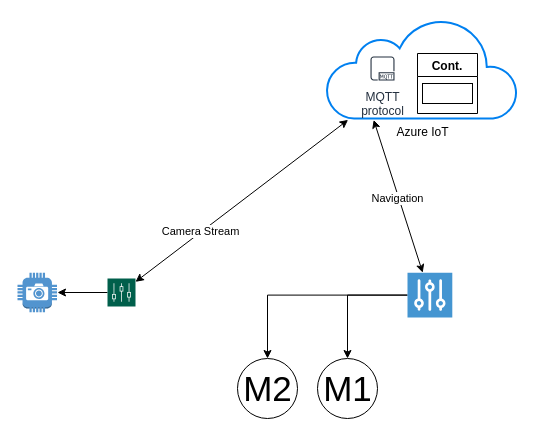
This 536x436 diagram has some shape labels left out. Here are the shapes that lost their labels. From the top down, the centre of each, then its label:
At point 447,93: "YOLO5".
At point 121,292: "ESP32-CAM".
At point 429,294: "MKR 1010 WiFi".
